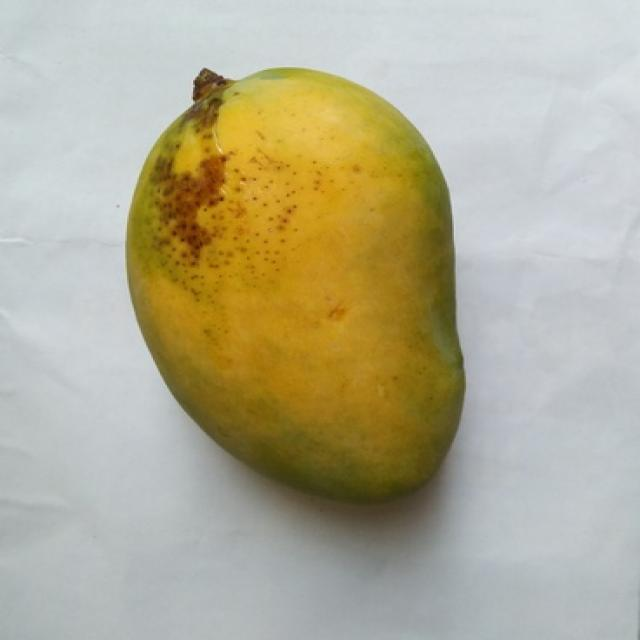Mango: (127, 68, 463, 499)
